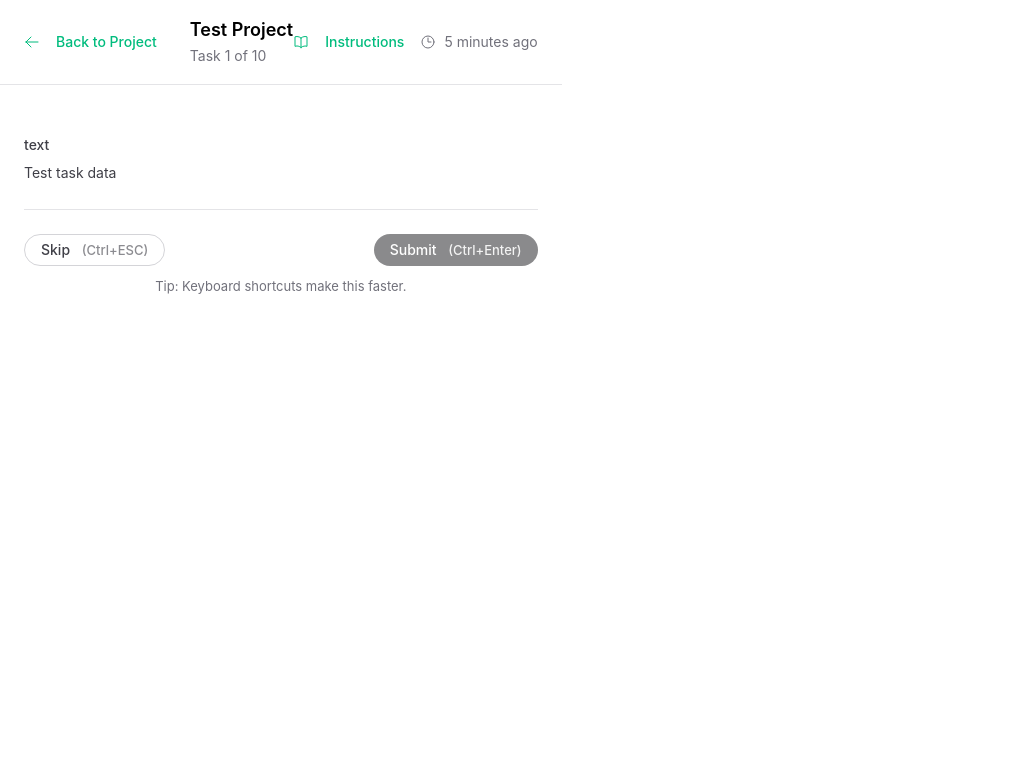
Test: LabelingInterface › Instructions Button › should show Close button instead of Start Annotating when opened manually
The image size is (1024, 768).
# Click the Instructions button to open manually
Step 1. Click the button "Instructions" → point(349, 42), box [293,33,404,51]
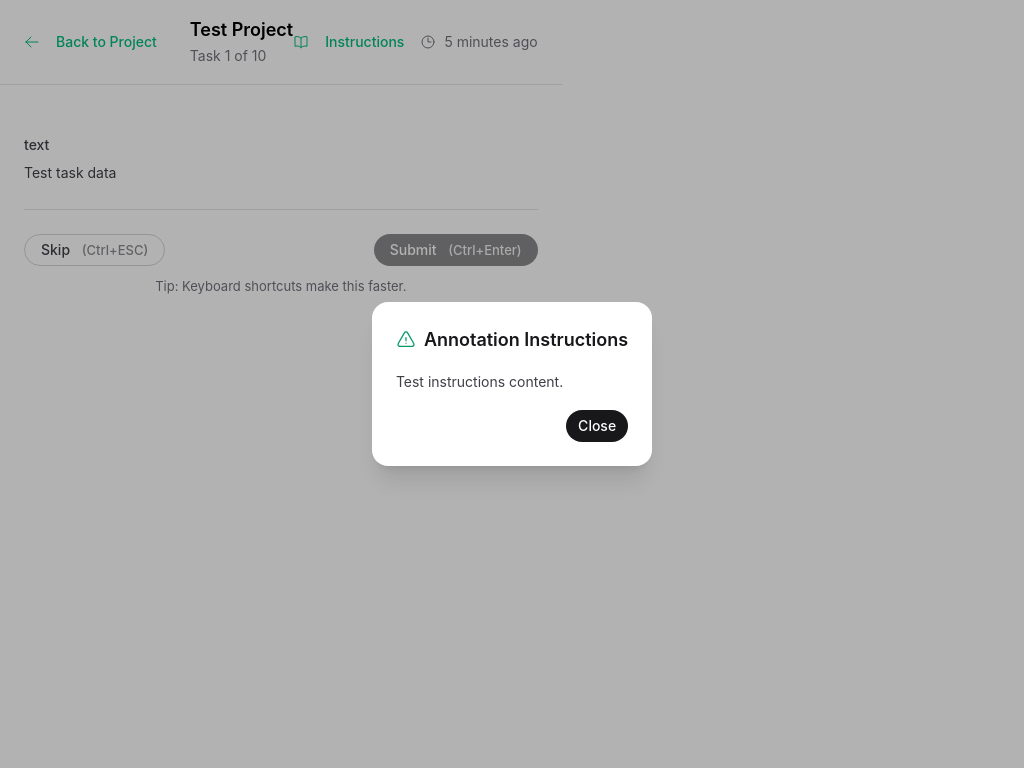
Result: the text "Test instructions content." is shown at [396,373,563,390]
Result: the button "Close" is shown at [566,410,628,442]
